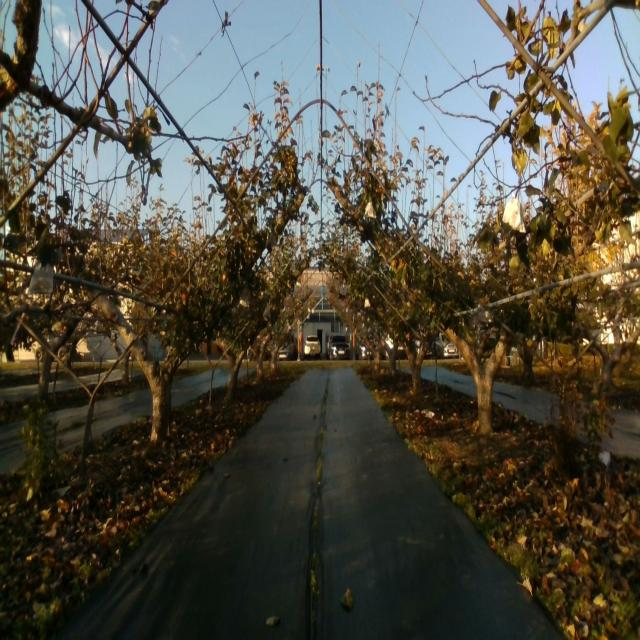pearbags: (502, 193, 526, 234), (28, 262, 53, 294), (365, 202, 376, 220)
